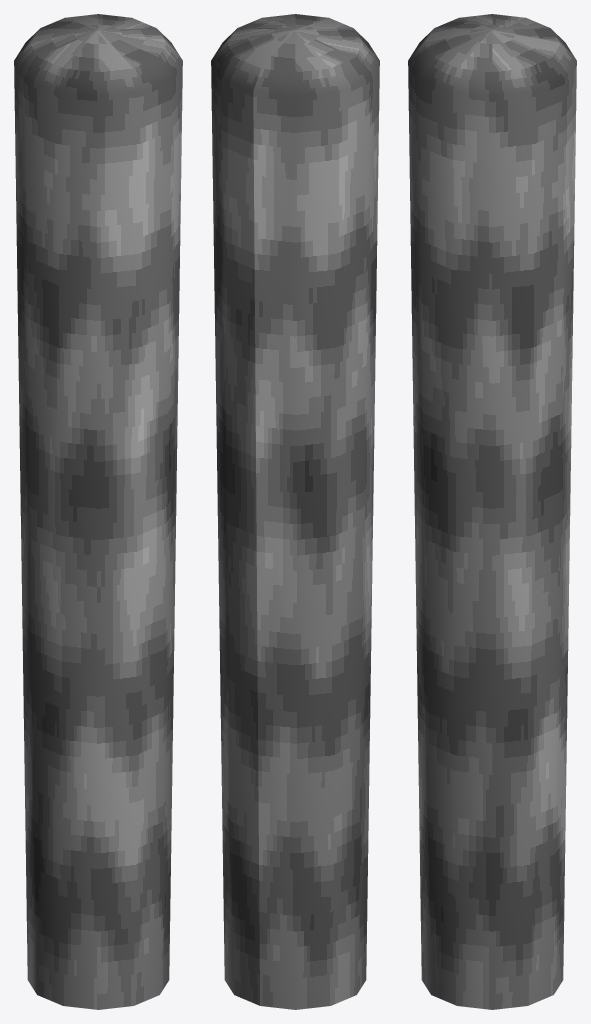
Rendered from geyser1.dae.
3 views of the same model, side by side, from view 1: azimuth 30°, elevation 25°; view 2: azimuth 150°, elevation 25°; view 3: azimuth 270°, elevation 25° (orthographic).
Parts seen in each view (by area): view 1: n1b1; view 2: n1b1; view 3: n1b1.
Part boxes in pixels (box(x1,y1,x2,y2)): n1b1: box(14, 14, 182, 1009); n1b1: box(211, 14, 379, 1009); n1b1: box(408, 14, 576, 1009).
Size of the model in its own units: 390 by 2420 by 390.
1 material, 1 textured.
